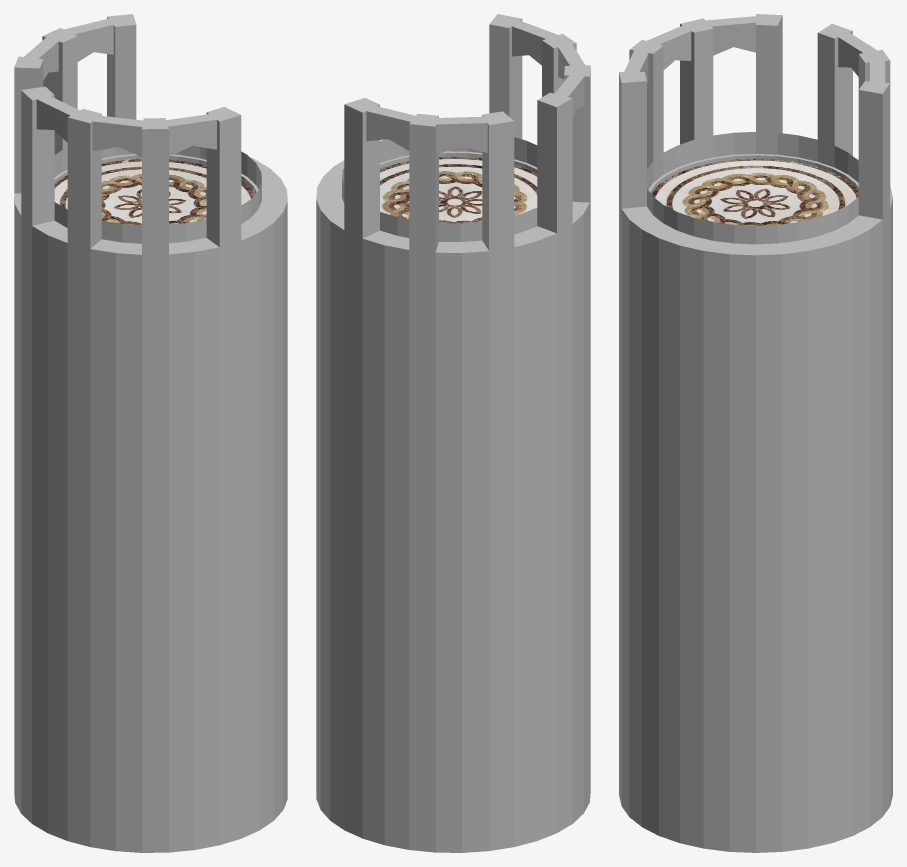
File: arena_with_border 1.fbx
3 renders of one model, left to right at view 1: azimuth 30°, elevation 25°; view 2: azimuth 150°, elevation 25°; view 3: azimuth 270°, elevation 25°, orthographic.
Visible parts, largest first — view 1: Arena, ArenaBorder; view 2: Arena, ArenaBorder; view 3: Arena, ArenaBorder.
Part boxes in pixels (bbox=[...]): Arena: bbox=[14, 14, 287, 852]; ArenaBorder: bbox=[54, 145, 261, 243]; Arena: bbox=[316, 14, 590, 852]; ArenaBorder: bbox=[342, 137, 537, 241]; Arena: bbox=[619, 14, 892, 852]; ArenaBorder: bbox=[647, 132, 858, 244].
Size of the model in its own units: 2000 by 5825 by 2000.
